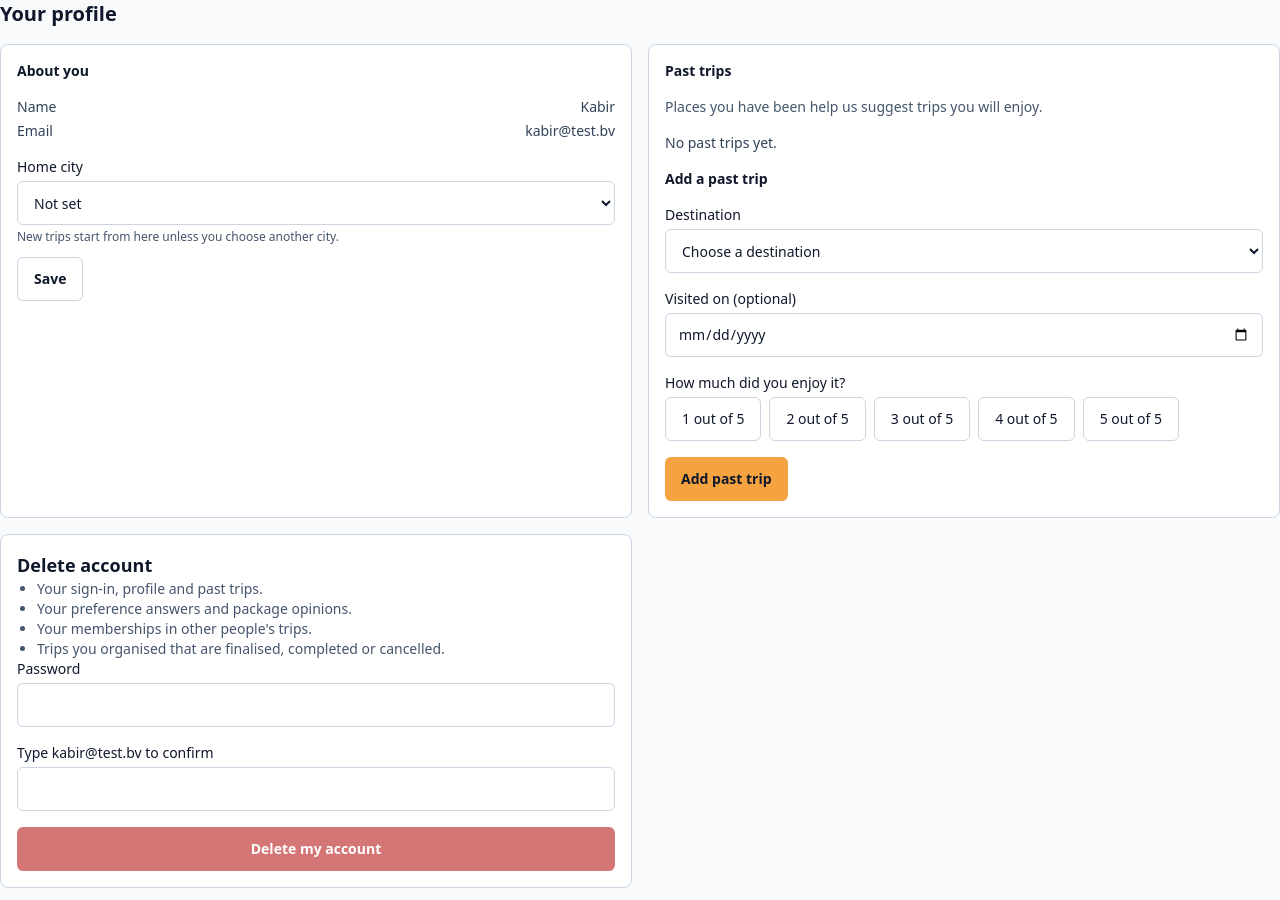
Test: ProfilePage delete account › 422 ACCOUNT_HAS_ACTIVE_TRIPS lists each blocking trip as a link
Type "pw-123456789" into the password field labelled "Password" at (316, 705), box x1=17 y1=683 x2=615 y2=727
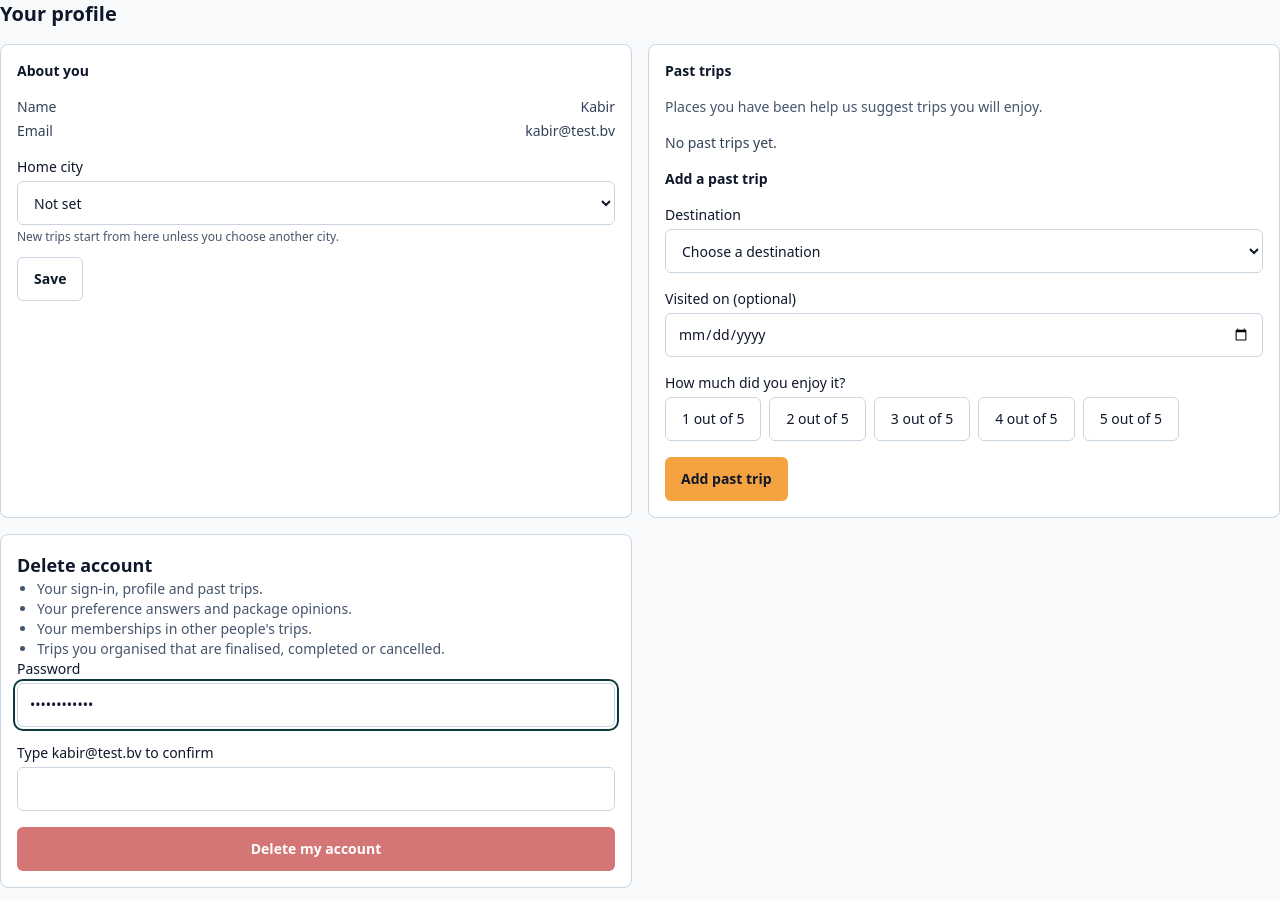
Type "kabir@test.bv" into the field labelled "Type kabir@test.bv to confirm" at (316, 789), box x1=17 y1=767 x2=615 y2=811
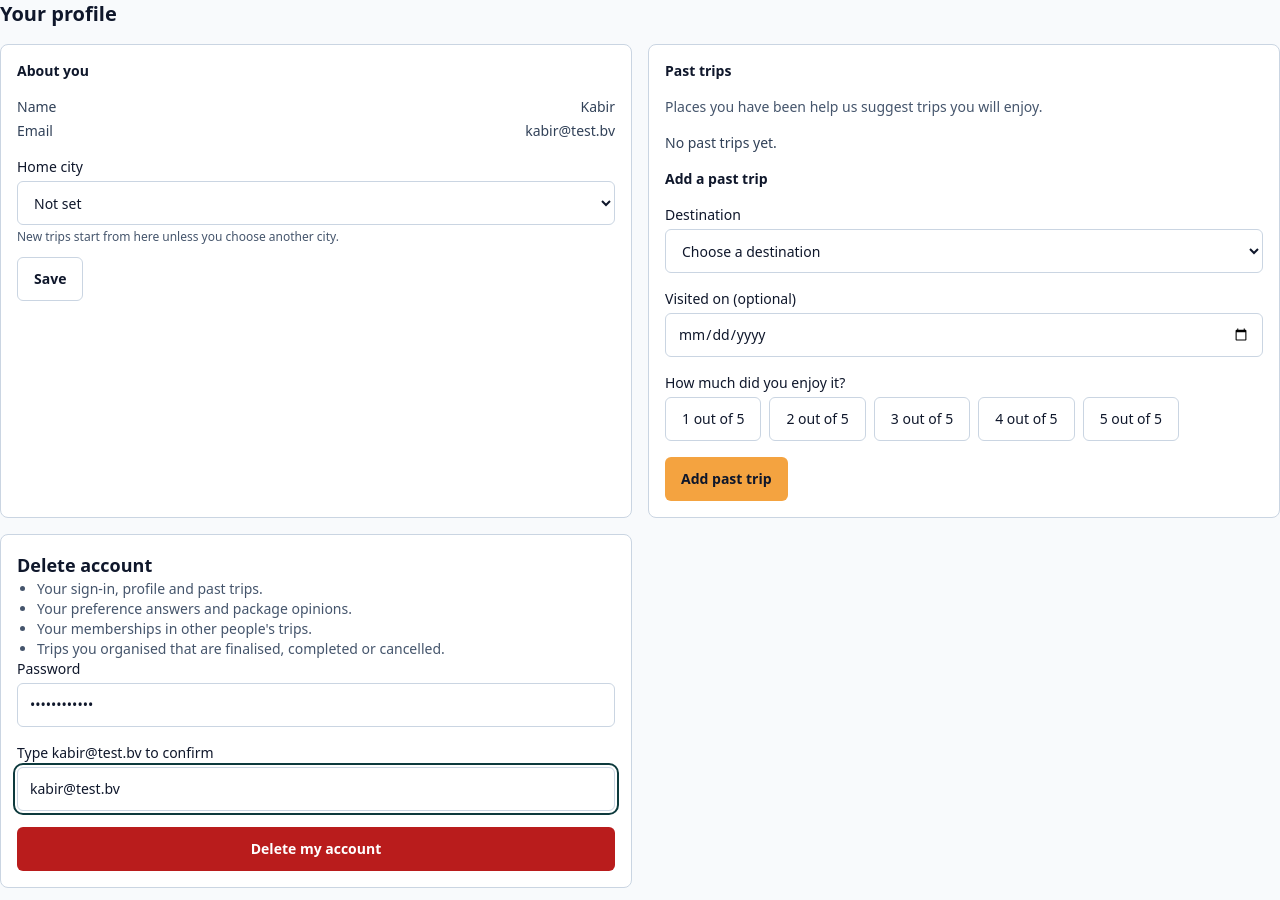
Click the button "Delete my account" at (316, 849), box x1=17 y1=827 x2=615 y2=871
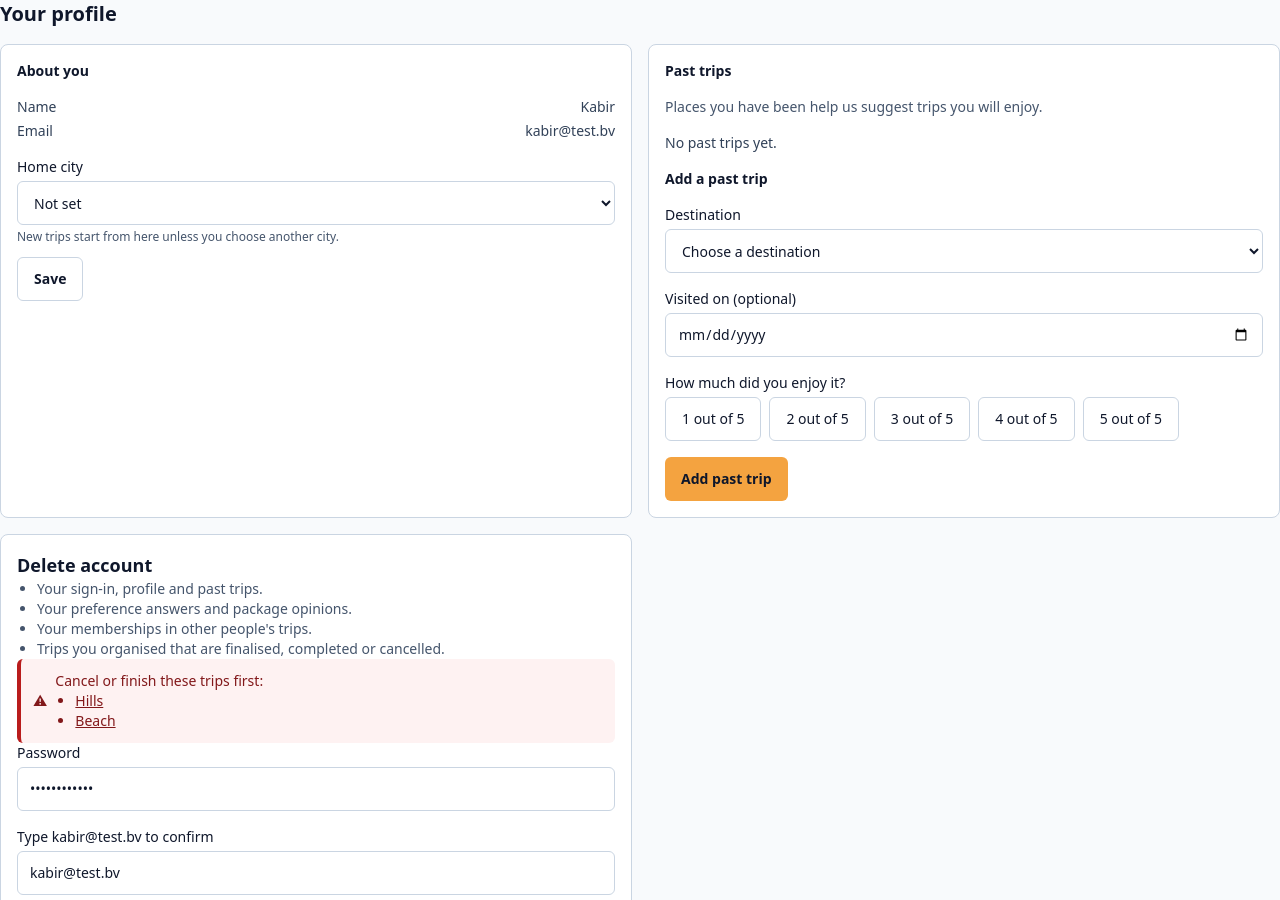
expect the message shows "Cancel or finish these trips first:": met, box x1=55 y1=671 x2=263 y2=690
expect the number of messages is 1: met, box x1=17 y1=659 x2=615 y2=743
